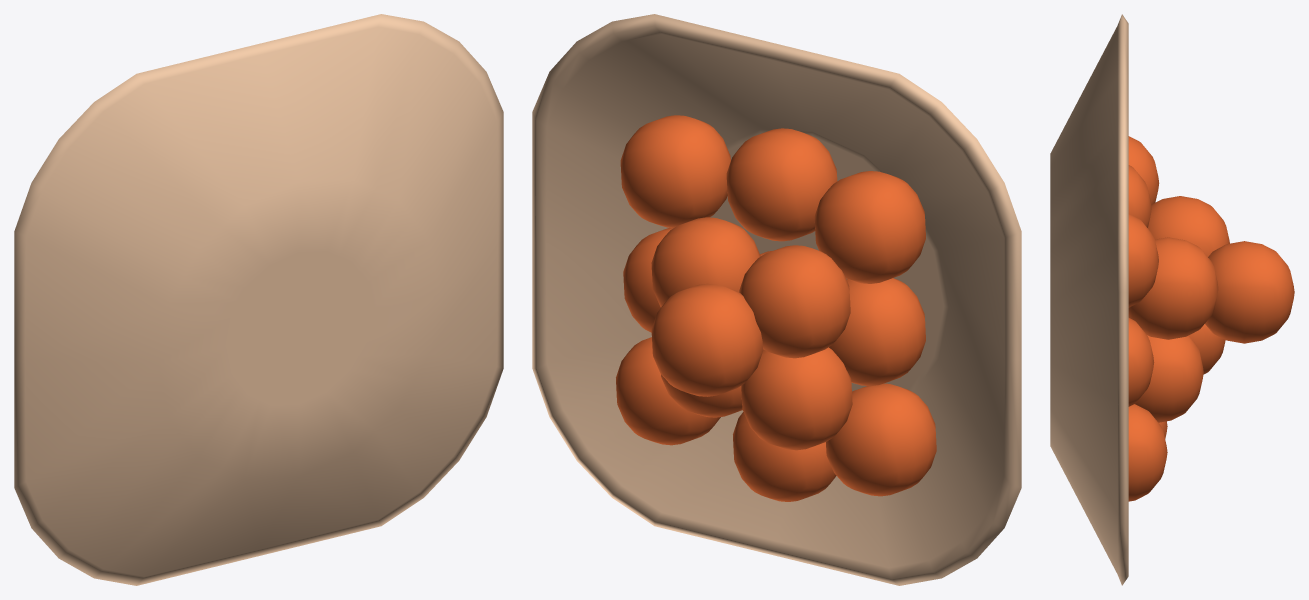
File: Fritter.fbx
The picture shows the model from 3 angles, left to right: view 1: azimuth 30°, elevation 25°; view 2: azimuth 150°, elevation 25°; view 3: azimuth 270°, elevation 25°; orthographic projection. The views are drawn at different scales.
Parts seen in each view (by area): view 1: Cube.011; view 2: Cube.011; view 3: Cube.011.
Boxes of the visible parts, left/top/right/bottom form: Cube.011: left=14, top=14, right=503, bottom=585; Cube.011: left=532, top=14, right=1021, bottom=585; Cube.011: left=1050, top=14, right=1294, bottom=585.
Size of the model in its own units: 0.5246 by 0.5246 by 0.2527.
